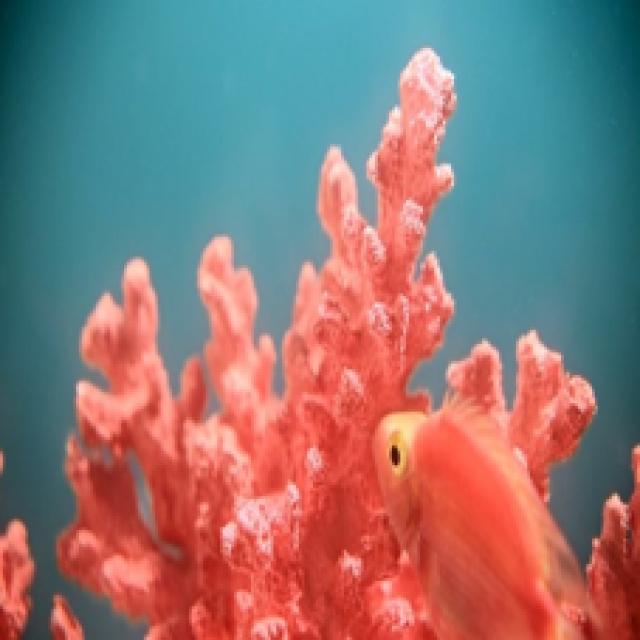Healthy: (57, 49, 638, 638)
